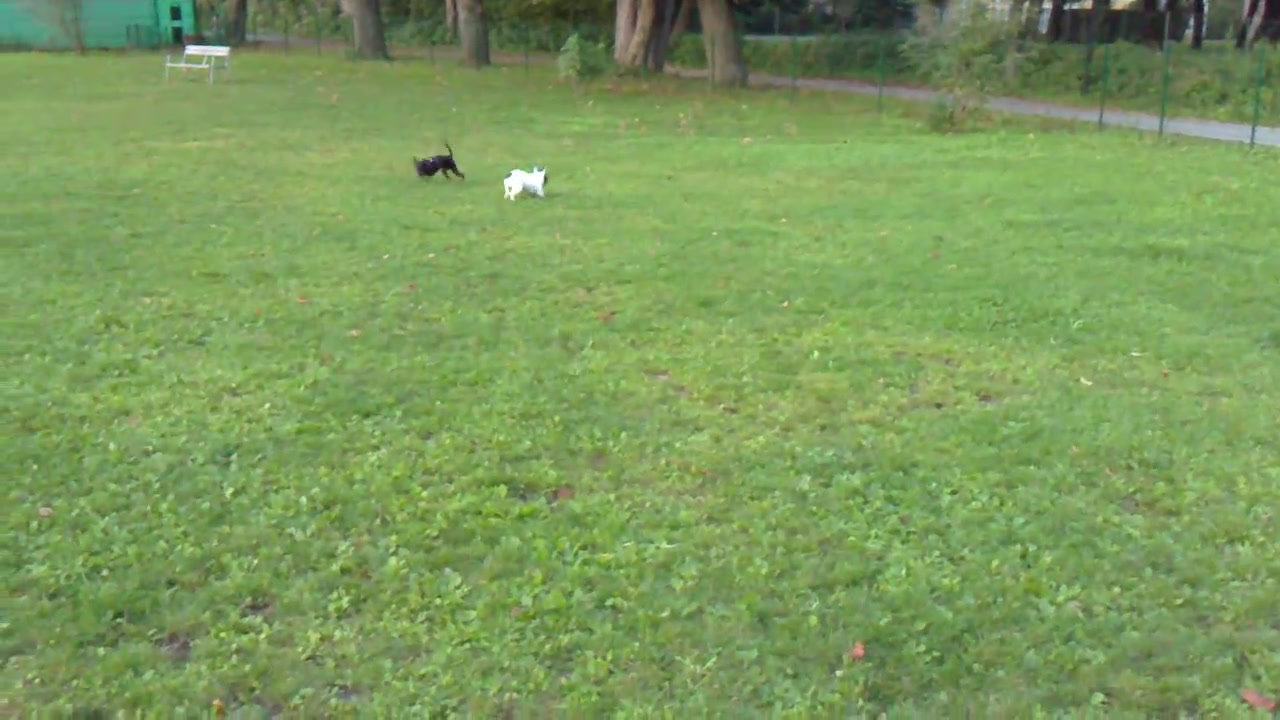dog: (412, 143, 469, 185), (500, 165, 551, 201)
